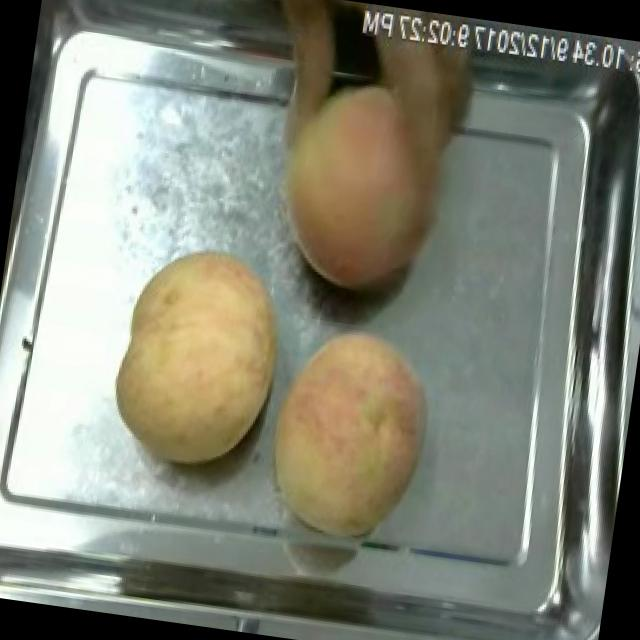Fruit: (252, 58, 470, 312), (99, 234, 302, 482), (251, 314, 445, 549)
